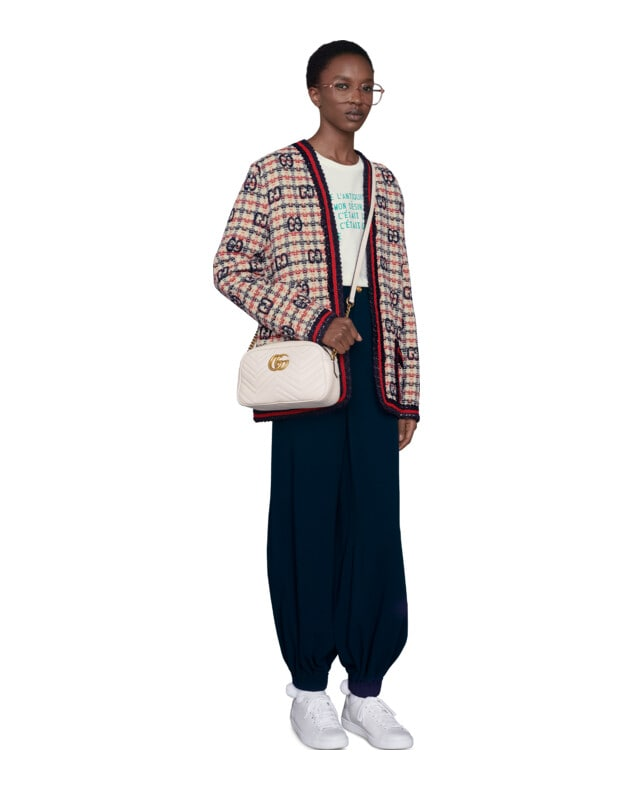Gucci: (227, 337, 339, 414), (264, 350, 299, 376)
